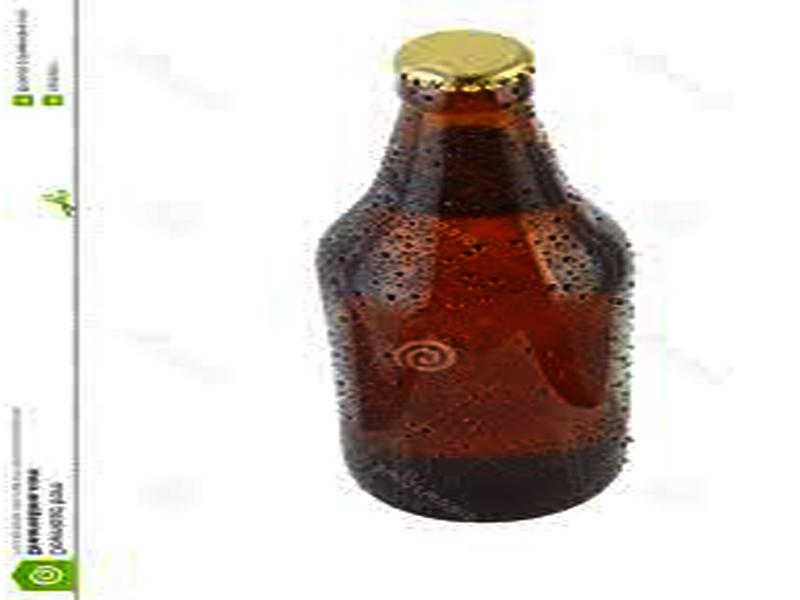Beer: (318, 32, 633, 520)
